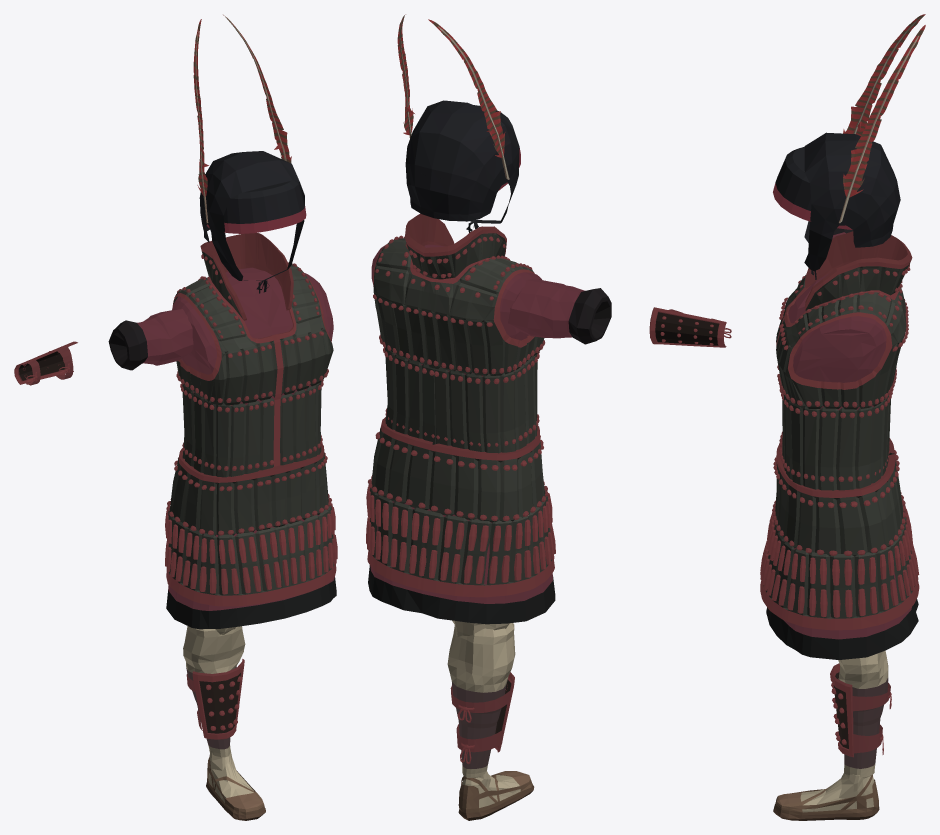
Rendered from hanDynastyWarriorFemale.glb.
3 views of the same model, side by side, from view 1: azimuth 30°, elevation 25°; view 2: azimuth 150°, elevation 25°; view 3: azimuth 270°, elevation 25° (orthographic). The views are drawn at different scales.
Parts seen in each view (by area): view 1: hanDynastyWarriorBody, hanDynastyWarriorHatFeathered, hanDynastyWarriorLowerLeg, hanDynastyWarriorUpperArm, hanDynastyWarriorFoot, hanDynastyWrist; view 2: hanDynastyWarriorBody, hanDynastyWarriorHatFeathered, hanDynastyWarriorLowerLeg, hanDynastyWarriorUpperArm, hanDynastyWarriorFoot, hanDynastyWrist; view 3: hanDynastyWarriorBody, hanDynastyWarriorHatFeathered, hanDynastyWarriorLowerLeg, hanDynastyWarriorFoot.
Part boxes in pixels (x1,y1,x2,y2): hanDynastyWarriorBody: (165, 233, 337, 629); hanDynastyWarriorHatFeathered: (193, 14, 306, 293); hanDynastyWarriorLowerLeg: (183, 626, 245, 757); hanDynastyWarriorUpperArm: (108, 309, 193, 370); hanDynastyWarriorFoot: (206, 749, 265, 820); hanDynastyWrist: (14, 341, 77, 385); hanDynastyWarriorBody: (366, 213, 555, 624); hanDynastyWarriorHatFeathered: (397, 14, 520, 232); hanDynastyWarriorLowerLeg: (447, 623, 515, 777); hanDynastyWarriorUpperArm: (508, 278, 611, 344); hanDynastyWarriorFoot: (458, 771, 534, 820); hanDynastyWrist: (649, 307, 731, 347); hanDynastyWarriorBody: (760, 231, 919, 659); hanDynastyWarriorHatFeathered: (773, 14, 925, 279); hanDynastyWarriorLowerLeg: (830, 650, 891, 777); hanDynastyWarriorFoot: (773, 773, 879, 820).
Size of the model in its own units: 1 by 2.27 by 0.4222.
